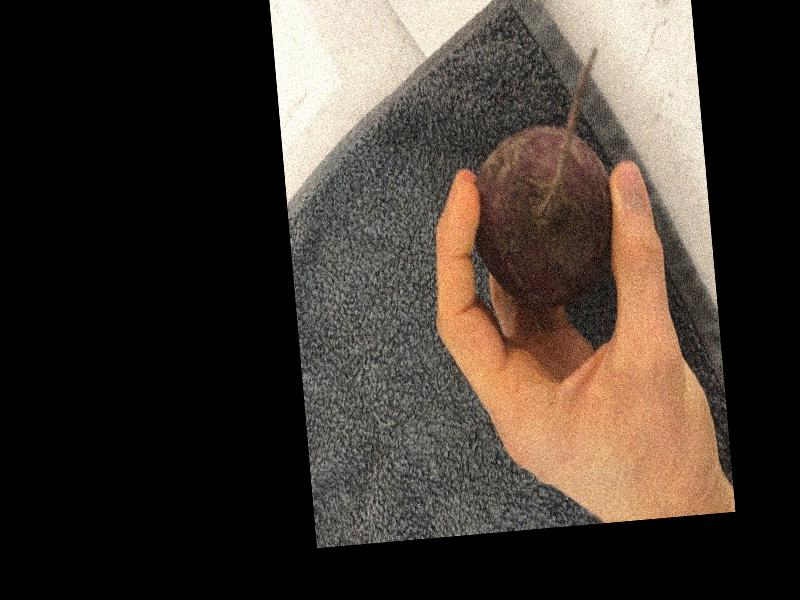Beet: (459, 46, 620, 312)
